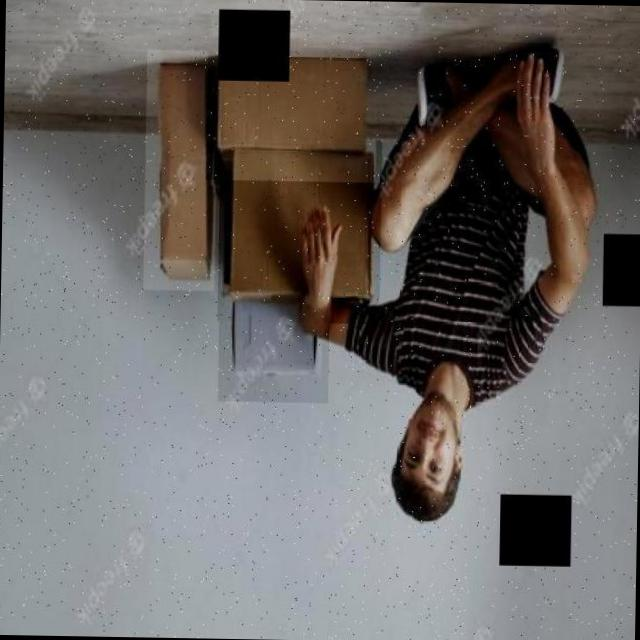box: (217, 136, 382, 324), (205, 31, 378, 182), (143, 49, 218, 290), (218, 278, 330, 403)
